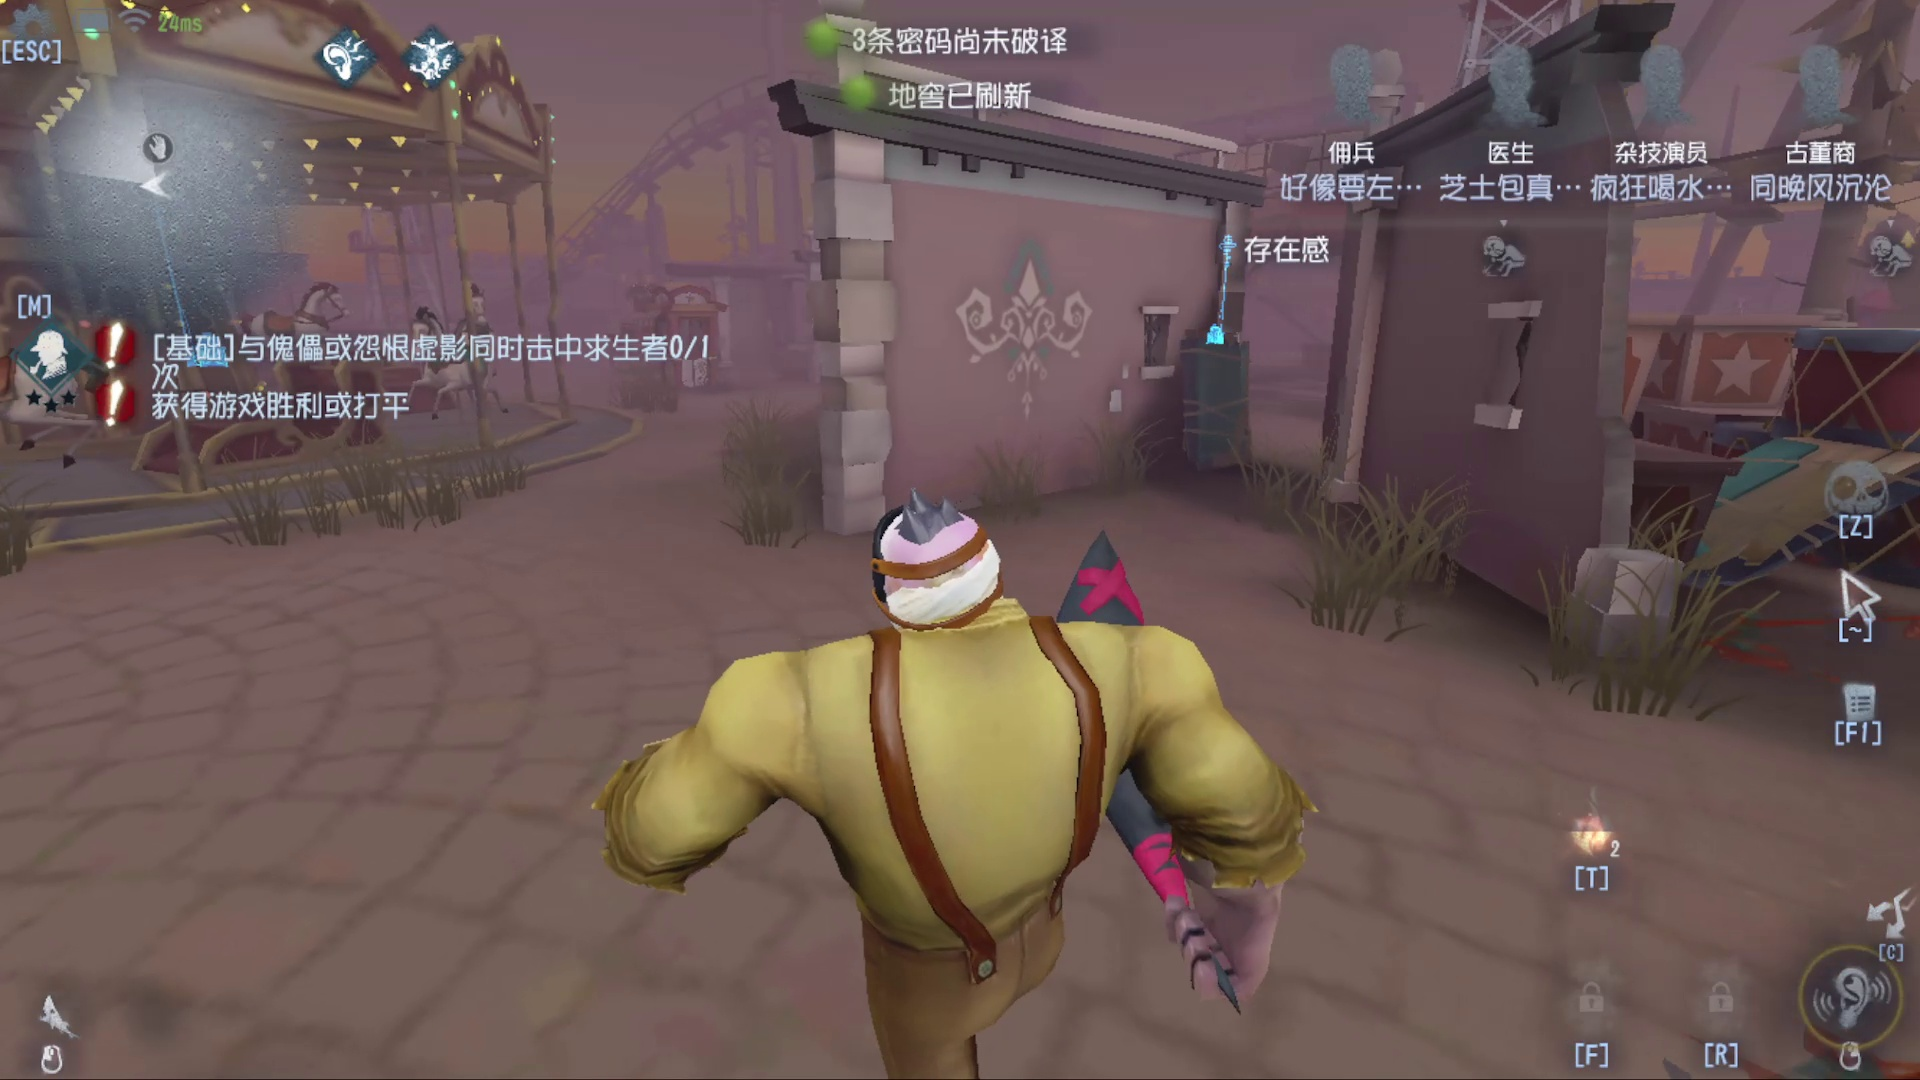密码机: (138, 189, 258, 388), (1197, 216, 1249, 357)
木板: (1636, 407, 1900, 629), (1163, 320, 1280, 481)
